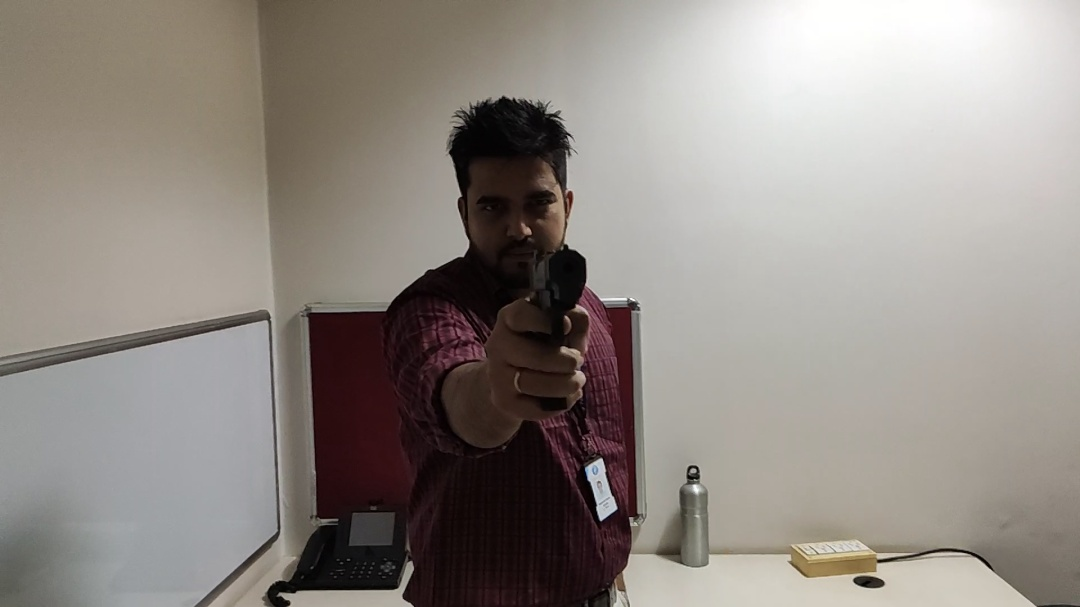gun: (522, 241, 593, 417)
